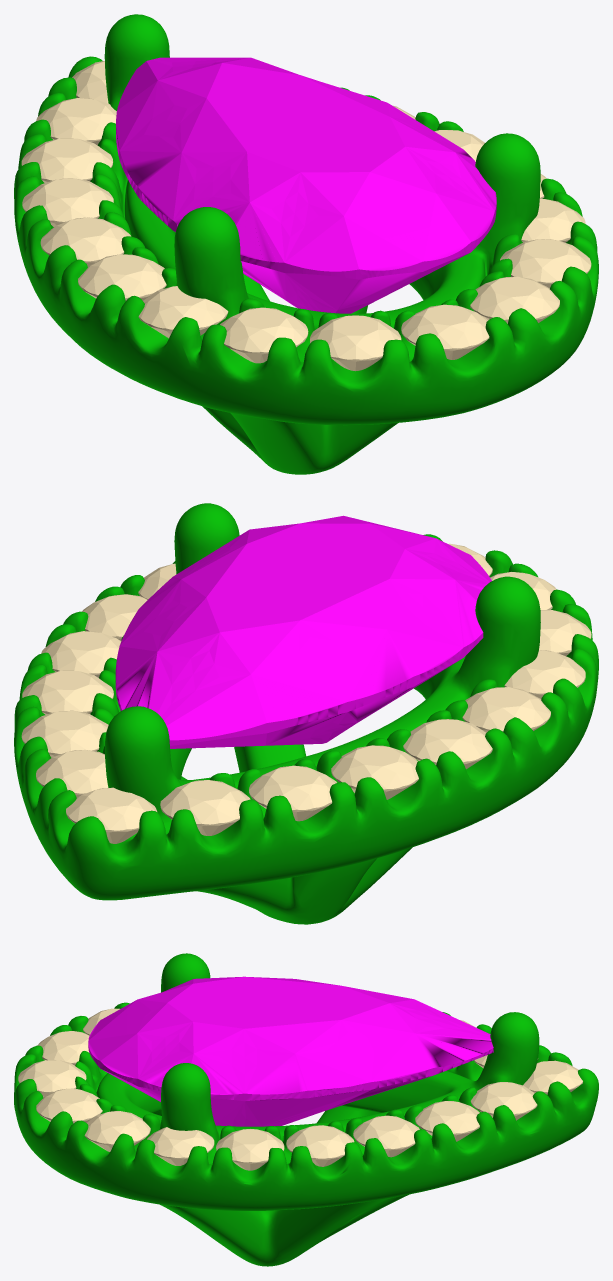
3 renders of one model, top to bottom at view 1: azimuth 30°, elevation 25°; view 2: azimuth 150°, elevation 25°; view 3: azimuth 270°, elevation 25°, orthographic. The views are drawn at different scales.
Parts seen in each view (by area): view 1: Metal01, Diamond_Pear, Diamond_Round.007, Diamond_Round.006, Diamond_Round.008, Diamond_Round.009, Diamond_Round.004, Diamond_Round.002, Diamond_Round.010, Diamond_Round.003, Diamond_Round.001, Diamond_Round.005 (+4 smaller); view 2: Metal01, Diamond_Pear, Diamond_Round, Diamond_Round.001, Diamond_Round.002, Diamond_Round.003, Diamond_Round.017, Diamond_Round.004, Diamond_Round.015, Diamond_Round.014, Diamond_Round.013, Diamond_Round.016 (+5 smaller); view 3: Metal01, Diamond_Pear, Diamond_Round.012, Diamond_Round.013, Diamond_Round.014, Diamond_Round.010, Diamond_Round.015, Diamond_Round.016, Diamond_Round.011, Diamond_Round.009, Diamond_Round.008, Diamond_Round.017 (+1 smaller).
Part boxes in pixels (x1=…): Metal01: x1=14, y1=14, x2=598, y2=474; Diamond_Pear: x1=116, y1=57, x2=496, y2=313; Diamond_Round.007: x1=310, y1=315, x2=401, y2=371; Diamond_Round.006: x1=220, y1=307, x2=308, y2=363; Diamond_Round.008: x1=401, y1=304, x2=489, y2=359; Diamond_Round.009: x1=470, y1=276, x2=559, y2=323; Diamond_Round.004: x1=78, y1=254, x2=166, y2=300; Diamond_Round.002: x1=22, y1=178, x2=113, y2=226; Diamond_Round.010: x1=500, y1=239, x2=591, y2=288; Diamond_Round.003: x1=40, y1=217, x2=130, y2=265; Diamond_Round.001: x1=21, y1=138, x2=113, y2=182; Diamond_Round.005: x1=138, y1=286, x2=228, y2=338; Metal01: x1=14, y1=503, x2=598, y2=924; Diamond_Pear: x1=115, y1=515, x2=491, y2=748; Diamond_Round: x1=160, y1=780, x2=250, y2=835; Diamond_Round.001: x1=249, y1=765, x2=336, y2=821; Diamond_Round.002: x1=331, y1=745, x2=418, y2=799; Diamond_Round.003: x1=403, y1=719, x2=492, y2=769; Diamond_Round.017: x1=66, y1=787, x2=157, y2=843; Diamond_Round.004: x1=462, y1=687, x2=550, y2=732; Diamond_Round.015: x1=21, y1=710, x2=108, y2=757; Diamond_Round.014: x1=22, y1=670, x2=113, y2=714; Diamond_Round.013: x1=41, y1=631, x2=121, y2=677; Diamond_Round.016: x1=36, y1=749, x2=108, y2=797; Metal01: x1=14, y1=953, x2=598, y2=1266; Diamond_Pear: x1=88, y1=976, x2=493, y2=1126; Diamond_Round.012: x1=216, y1=1129, x2=284, y2=1170; Diamond_Round.013: x1=286, y1=1125, x2=354, y2=1166; Diamond_Round.014: x1=353, y1=1115, x2=419, y2=1157; Diamond_Round.010: x1=84, y1=1111, x2=150, y2=1151; Diamond_Round.015: x1=415, y1=1101, x2=479, y2=1141; Diamond_Round.016: x1=470, y1=1082, x2=537, y2=1120; Diamond_Round.011: x1=147, y1=1127, x2=214, y2=1165; Diamond_Round.009: x1=36, y1=1088, x2=102, y2=1123; Diamond_Round.008: x1=18, y1=1060, x2=86, y2=1097; Diamond_Round.017: x1=523, y1=1060, x2=582, y2=1094.
Size of the model in its own units: 8.01 by 5.57 by 11.56.
